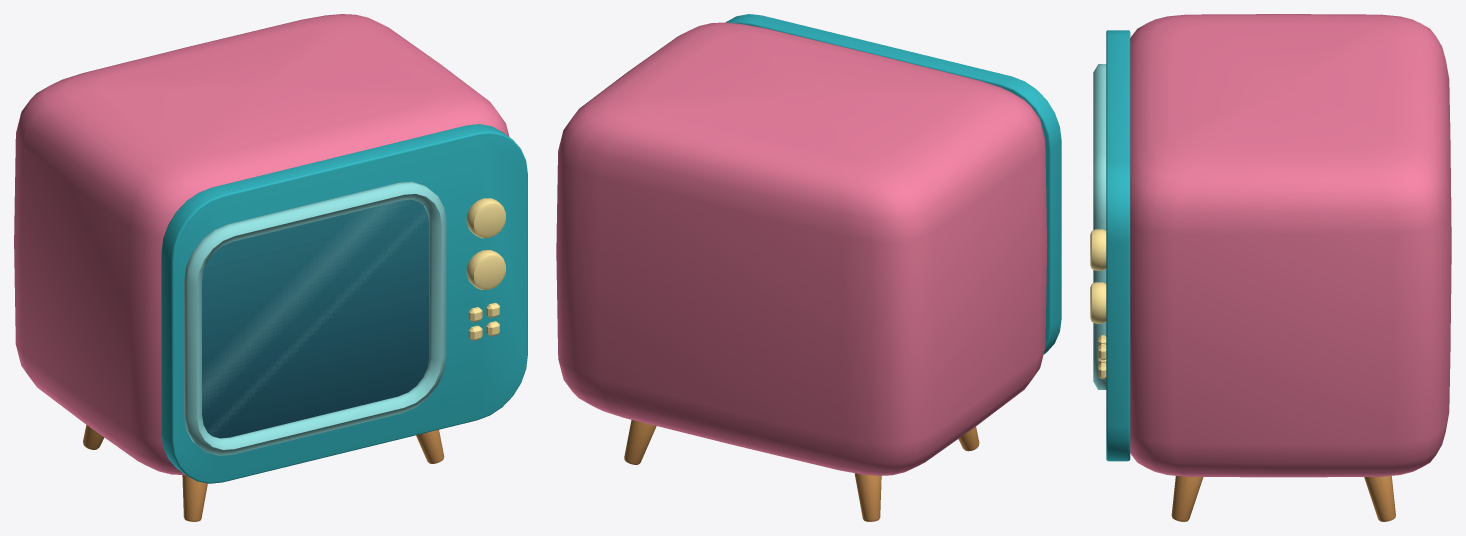
The model's file is tv_tubo_pes_rosa.glb.
3 renders of one model, left to right at view 1: azimuth 30°, elevation 25°; view 2: azimuth 150°, elevation 25°; view 3: azimuth 270°, elevation 25°, orthographic. The views are drawn at different scales.
Visible parts, largest first — view 1: tv_tubo_pes_rosa; view 2: tv_tubo_pes_rosa; view 3: tv_tubo_pes_rosa.
Part boxes in pixels (<box>): tv_tubo_pes_rosa: <box>14,14,527,521</box>; tv_tubo_pes_rosa: <box>556,14,1061,521</box>; tv_tubo_pes_rosa: <box>1090,14,1451,521</box>.
Bounding box in the file's own units: 0.56 × 0.517 × 0.452.
2 materials, 2 textured.
